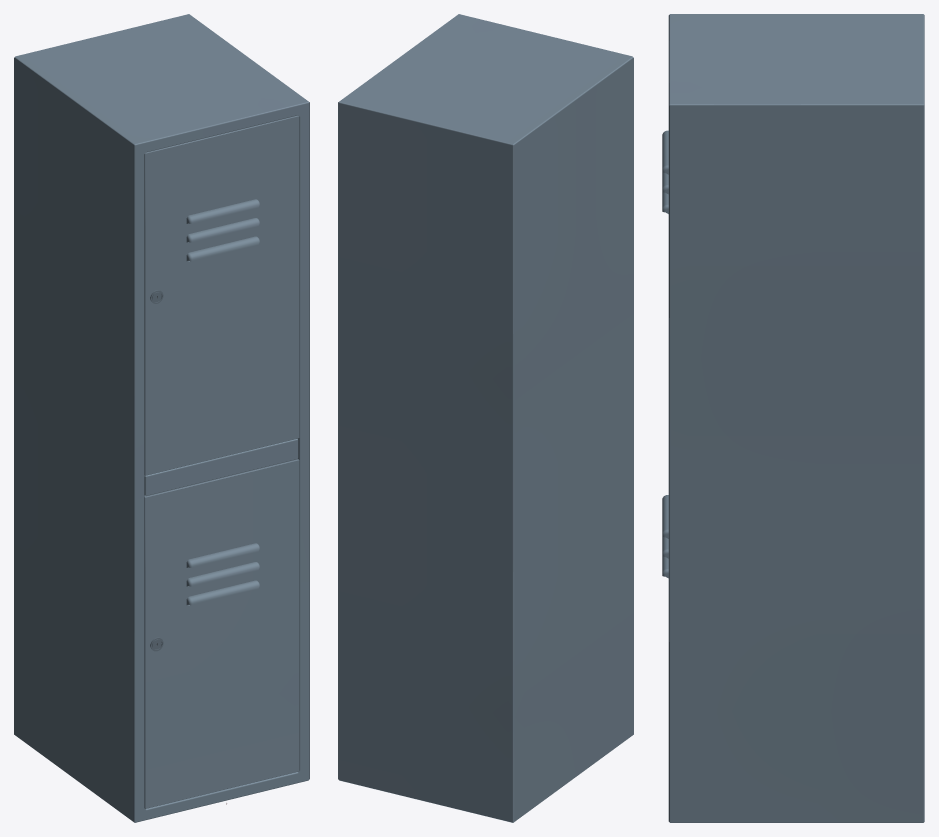
Rendered from SM_Locker_Doors_2Up_Closed.fbx.
The picture shows the model from 3 angles, left to right: view 1: azimuth 30°, elevation 25°; view 2: azimuth 150°, elevation 25°; view 3: azimuth 270°, elevation 25°; orthographic projection. The views are drawn at different scales.
Parts seen in each view (by area): view 1: SM_Locker_Doors_2Up_Closed; view 2: SM_Locker_Doors_2Up_Closed; view 3: SM_Locker_Doors_2Up_Closed.
Boxes of the visible parts, x1,y1,x2,y2 form: SM_Locker_Doors_2Up_Closed: (14,14,309,822); SM_Locker_Doors_2Up_Closed: (338,14,633,822); SM_Locker_Doors_2Up_Closed: (662,14,924,822).
Bounding box in the file's own units: 58.47 × 217 × 71.27.
